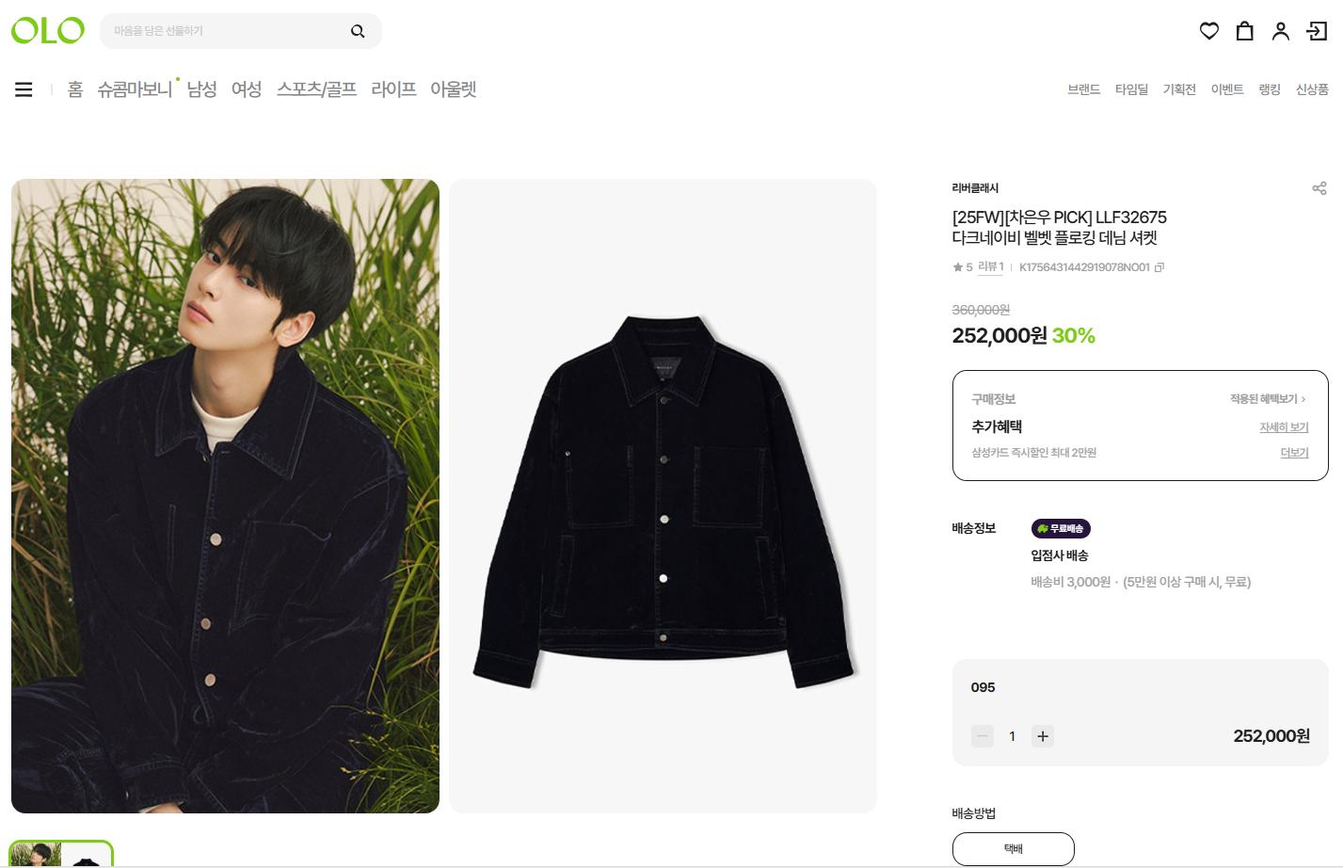button: (945, 830, 1071, 867), (100, 68, 180, 104), (286, 68, 359, 107), (1265, 16, 1303, 46), (1120, 79, 1162, 106), (965, 720, 1000, 751), (227, 69, 256, 106), (1301, 161, 1329, 198), (1295, 75, 1334, 101), (431, 80, 476, 102), (1211, 76, 1251, 99), (69, 68, 92, 106), (1191, 26, 1223, 53), (186, 74, 219, 100), (1067, 80, 1106, 102), (1168, 81, 1212, 99), (1223, 18, 1249, 46), (376, 82, 416, 100), (1020, 723, 1054, 743), (1303, 24, 1328, 48), (1152, 257, 1171, 284), (1265, 80, 1289, 100), (980, 254, 1003, 274)
checkbox: (14, 80, 46, 102)
input_field: (98, 6, 382, 55)
